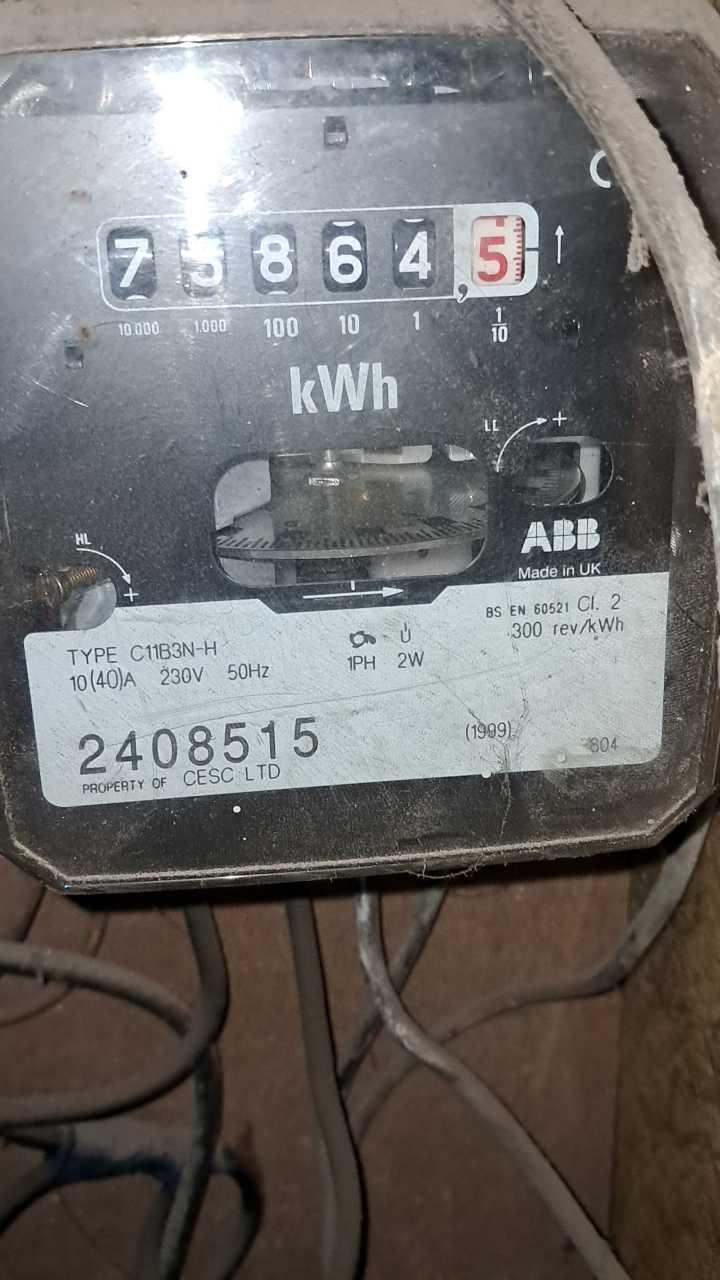meter_readings: (95, 220, 524, 294)
serial_number: (79, 720, 331, 771)
